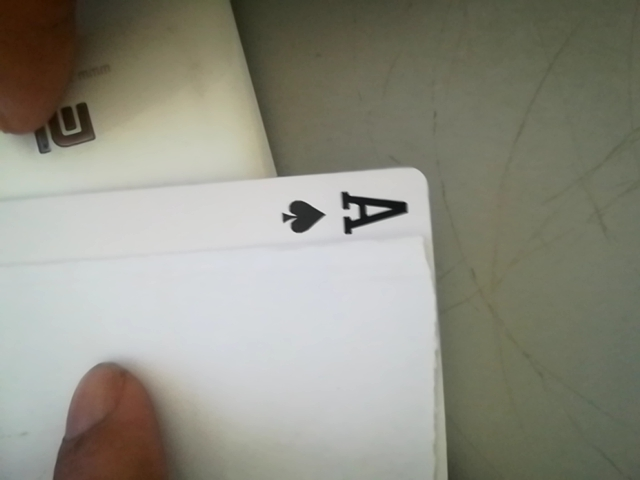ht a: (261, 180, 418, 243)
